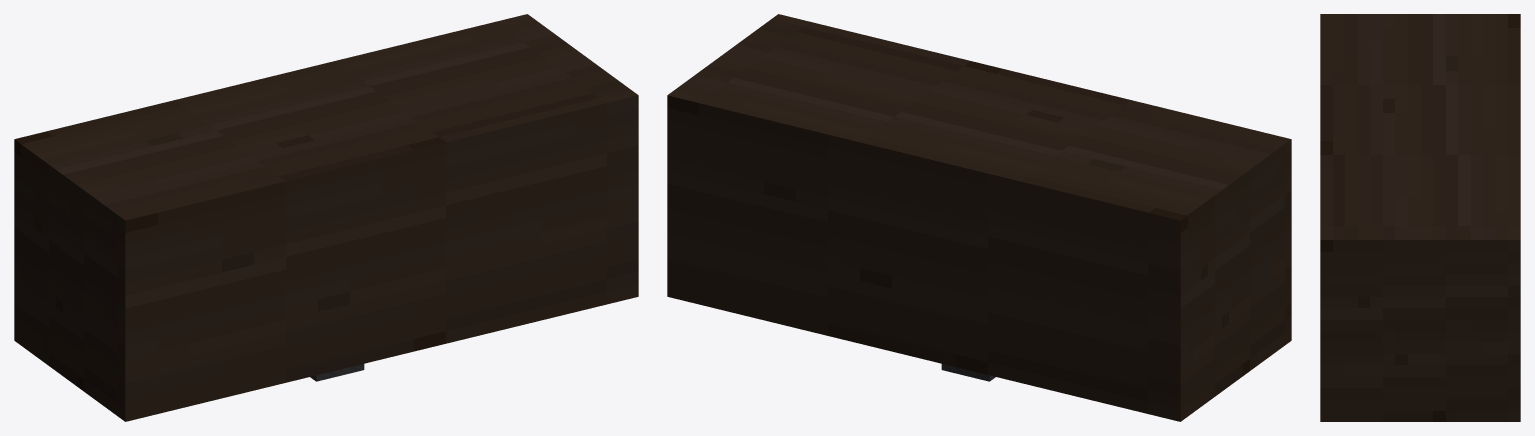
Rendered from arm_lri.obj.
3 views of the same model, side by side, from view 1: azimuth 30°, elevation 25°; view 2: azimuth 150°, elevation 25°; view 3: azimuth 270°, elevation 25° (orthographic). The views are drawn at different scales.
Parts seen in each view (by area): view 1: crossarm_brooks_brown_lri; view 2: crossarm_brooks_brown_lri; view 3: crossarm_brooks_brown_lri.
Part boxes in pixels (bbox=[...]): crossarm_brooks_brown_lri: bbox=[14, 14, 638, 421]; crossarm_brooks_brown_lri: bbox=[667, 14, 1291, 421]; crossarm_brooks_brown_lri: bbox=[1320, 14, 1520, 421].
Size of the model in its own units: 1 by 0.4625 by 0.375.
